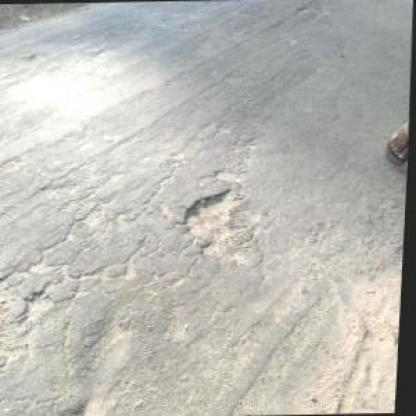pothole: (182, 186, 248, 252), (24, 290, 58, 322)
